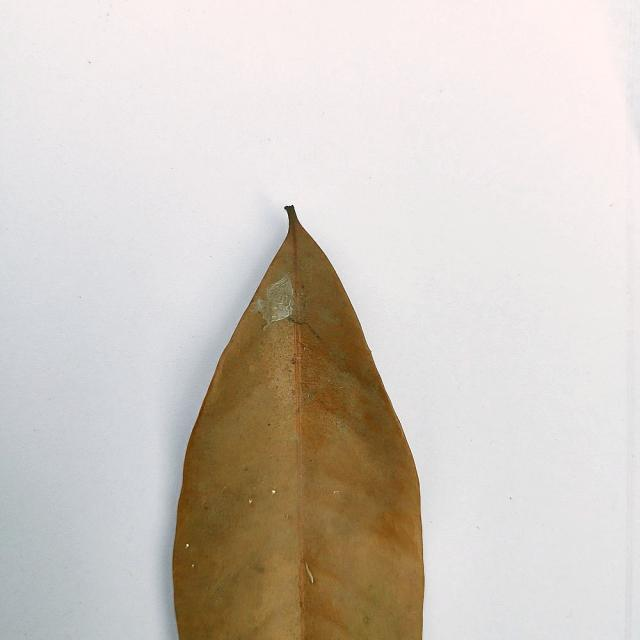Dry_Leaf-Lychee: (170, 207, 426, 639)
